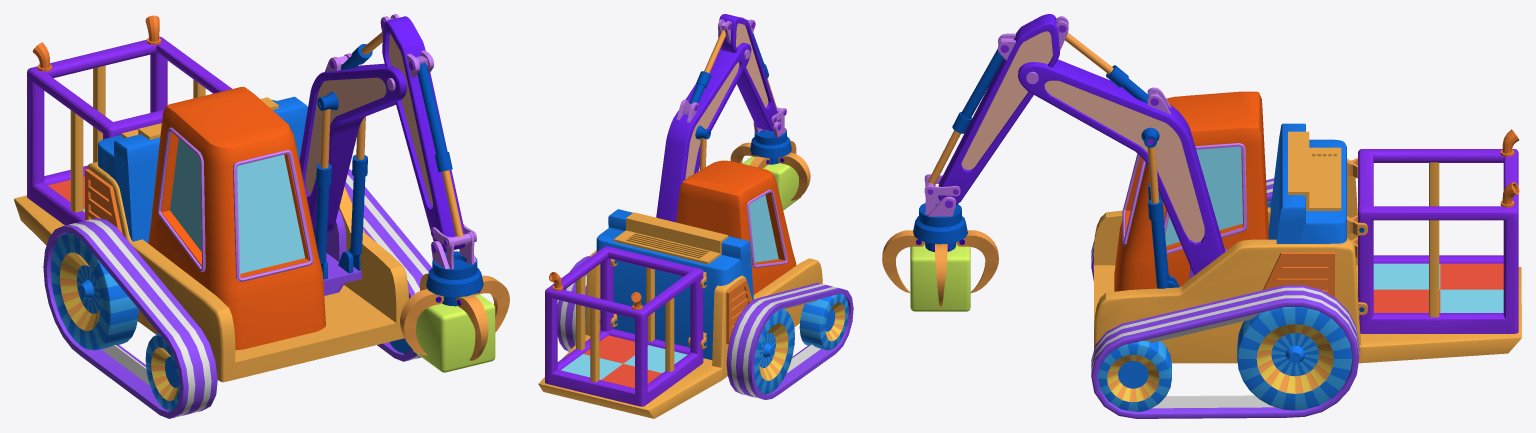
The model's file is SM_Vehicle_01.fbx.
The picture shows the model from 3 angles, left to right: view 1: azimuth 30°, elevation 25°; view 2: azimuth 150°, elevation 25°; view 3: azimuth 270°, elevation 25°; orthographic projection. The views are drawn at different scales.
Visible parts, largest first — view 1: SM_Vehicle_Base, SM_Vehicle_Basket, SM_Vehicle_Piece_01, SM_Vehicle_Wheel_04, SM_Vehicle_Piece_02, SM_Vehicle_Cube_01, SM_Vehicle_Wheel_03; view 2: SM_Vehicle_Base, SM_Vehicle_Basket, SM_Vehicle_Piece_01, SM_Vehicle_Wheel_04, SM_Vehicle_Piece_02, SM_Vehicle_Wheel_03, SM_Vehicle_Cube_01; view 3: SM_Vehicle_Base, SM_Vehicle_Basket, SM_Vehicle_Piece_01, SM_Vehicle_Wheel_02, SM_Vehicle_Piece_02, SM_Vehicle_Wheel_01, SM_Vehicle_Cube_01.
Boxes of the visible parts, x1,y1,x2,y2 form: SM_Vehicle_Base: (14,32,431,418); SM_Vehicle_Basket: (27,15,231,225); SM_Vehicle_Piece_01: (380,14,476,269); SM_Vehicle_Wheel_04: (50,233,138,350); SM_Vehicle_Piece_02: (400,241,509,360); SM_Vehicle_Cube_01: (413,294,495,372); SM_Vehicle_Wheel_03: (145,334,180,410); SM_Vehicle_Base: (538,30,853,418); SM_Vehicle_Basket: (545,246,703,406); SM_Vehicle_Piece_01: (718,14,786,131); SM_Vehicle_Wheel_04: (754,309,794,394); SM_Vehicle_Piece_02: (730,121,810,200); SM_Vehicle_Wheel_03: (799,293,848,350); SM_Vehicle_Cube_01: (742,156,801,210); SM_Vehicle_Base: (1018,33,1521,418); SM_Vehicle_Basket: (1358,129,1519,333); SM_Vehicle_Piece_01: (924,14,1068,214); SM_Vehicle_Wheel_02: (1237,307,1352,410); SM_Vehicle_Piece_02: (882,195,998,306); SM_Vehicle_Wheel_01: (1098,340,1171,411); SM_Vehicle_Cube_01: (910,243,970,311).
Bounding box in the file's own units: 177 × 240 × 380.
